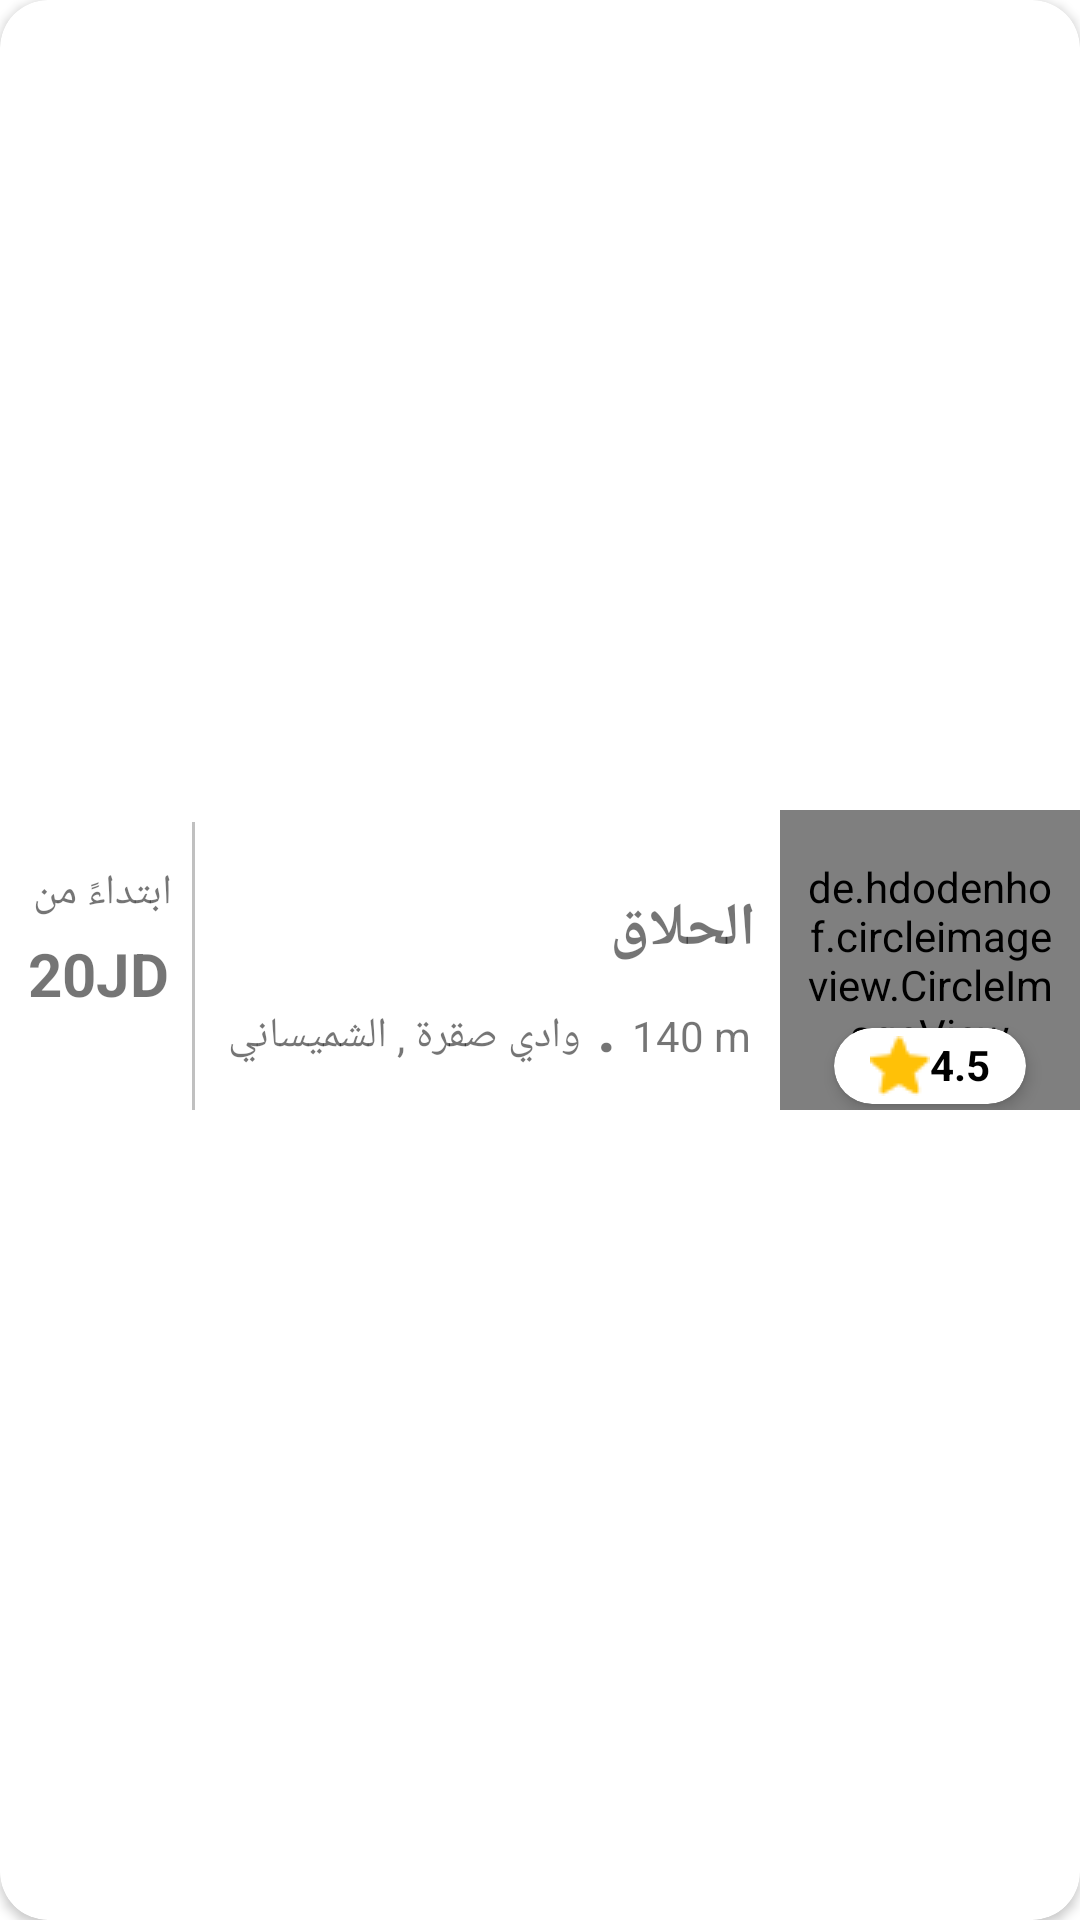

Icon click points for this 1080×1920 phone screenshot, format (x,y):
golden star: (900,1066)
